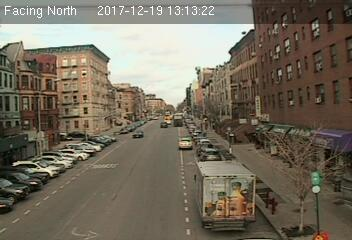car: (201, 148, 220, 160), (177, 136, 192, 150), (132, 129, 143, 138)
truck: (191, 160, 258, 233)
